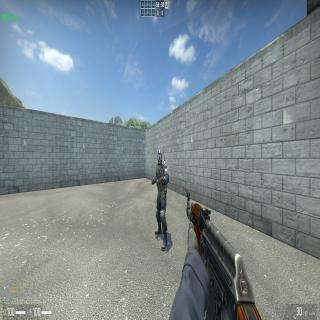CT-Body: (152, 149, 169, 252)
CT-Head: (157, 150, 163, 167)
